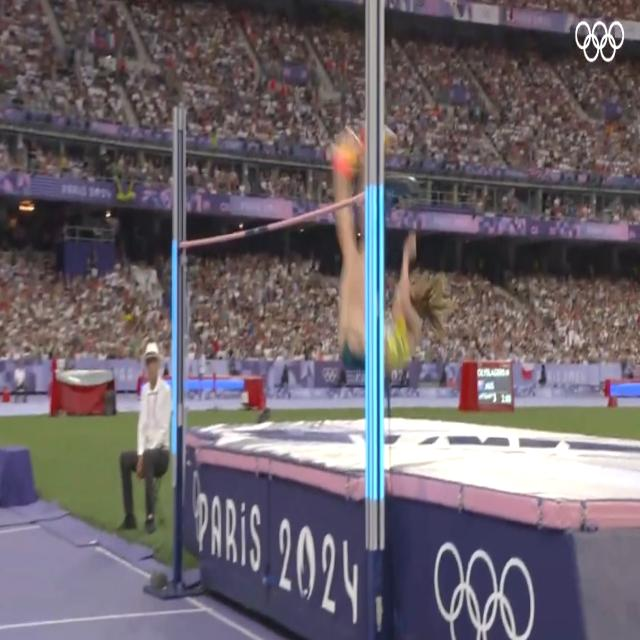land: (332, 133, 432, 378)
